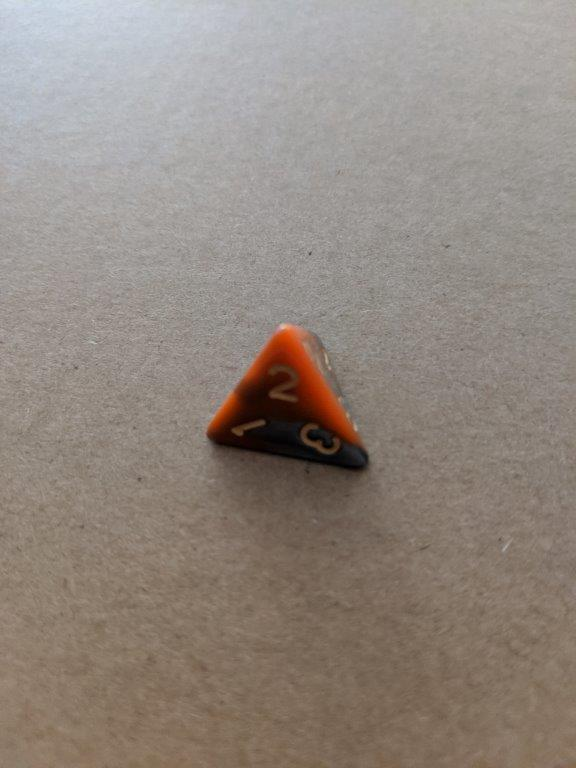d4-2: (202, 322, 373, 480)
